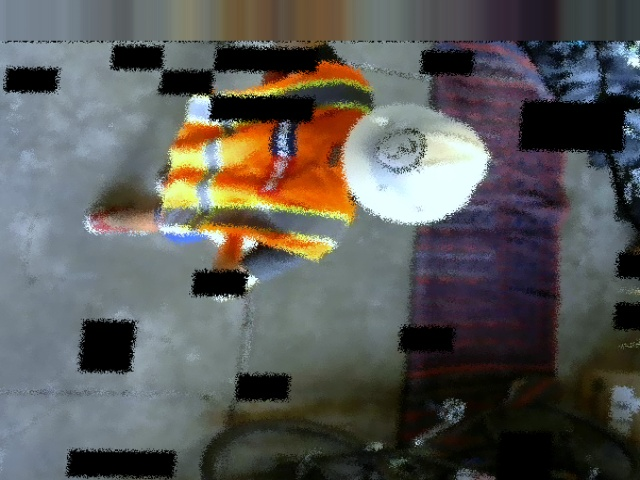three: (373, 128, 423, 170)
